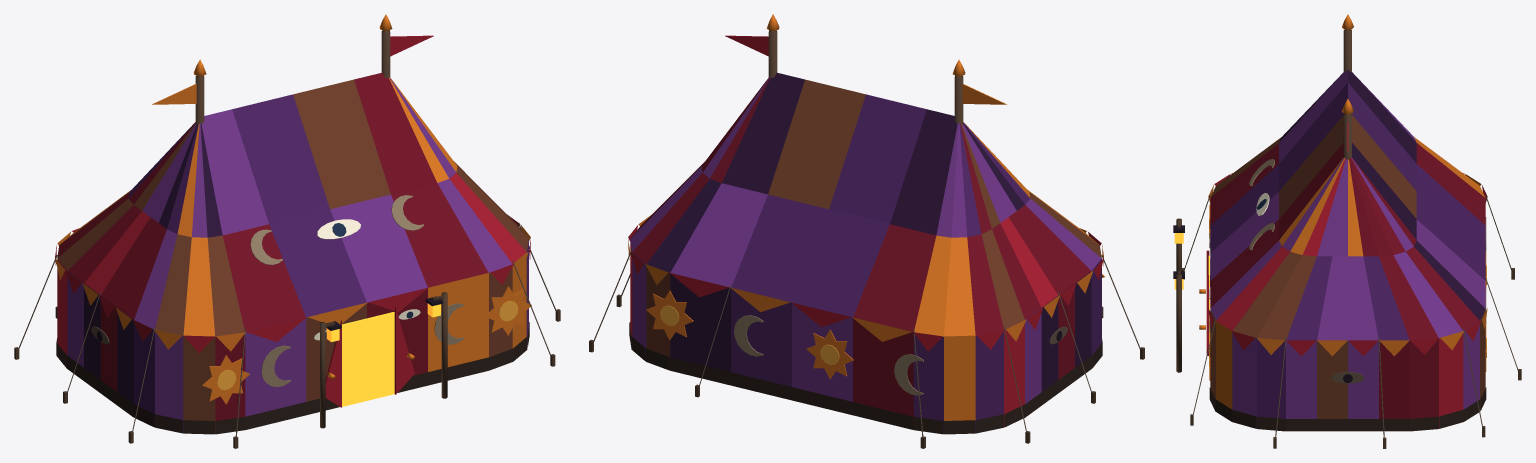
The model's file is great_tent.glb.
3 renders of one model, left to right at view 1: azimuth 30°, elevation 25°; view 2: azimuth 150°, elevation 25°; view 3: azimuth 270°, elevation 25°, orthographic. The views are drawn at different scales.
Parts seen in each view (by area): view 1: great_tent; view 2: great_tent; view 3: great_tent.
Boxes of the visible parts, box(x1,y1,x2,y2) form: great_tent: box(14, 14, 560, 448); great_tent: box(589, 14, 1144, 448); great_tent: box(1173, 14, 1521, 448).
Bounding box in the file's own units: 7.14 × 4.63 × 5.06.
